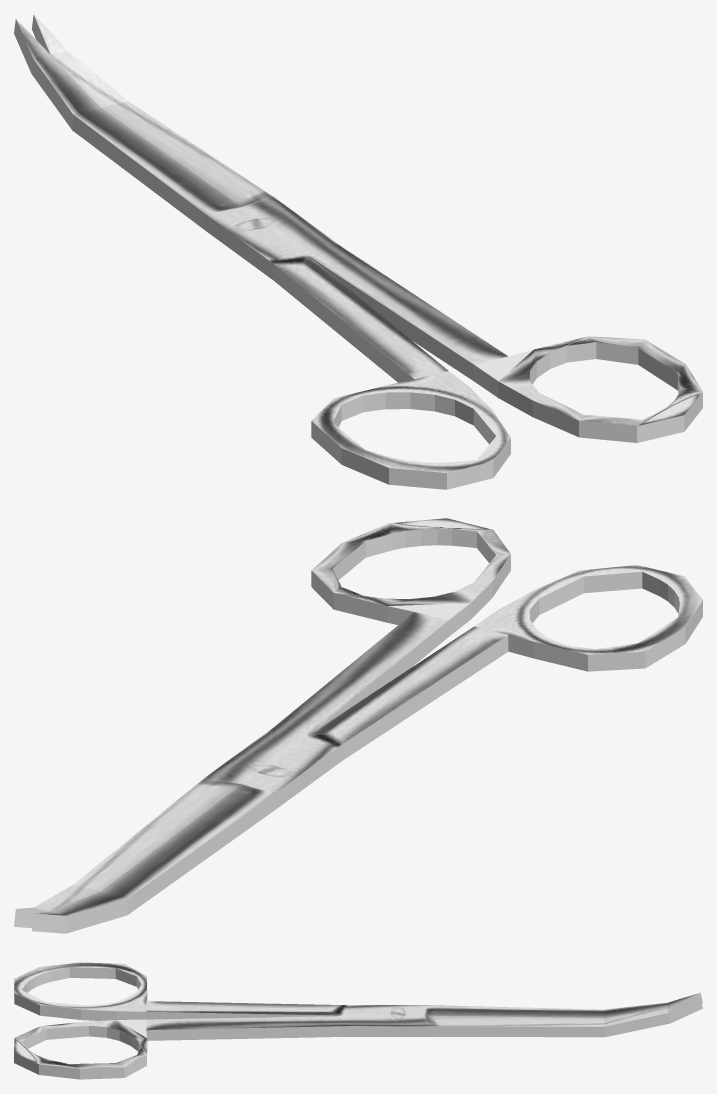
Rendered from keo.fbx.
3 renders of one model, top to bottom at view 1: azimuth 30°, elevation 25°; view 2: azimuth 150°, elevation 25°; view 3: azimuth 270°, elevation 25°, orthographic. The views are drawn at different scales.
Visible parts, largest first — view 1: keo.002; view 2: keo.002; view 3: keo.002.
Part boxes in pixels (<box>): keo.002: <box>14,14,702,489</box>; keo.002: <box>14,518,702,933</box>; keo.002: <box>14,962,702,1079</box>.
Size of the model in its own units: 18.25 by 2.66 by 49.88.
